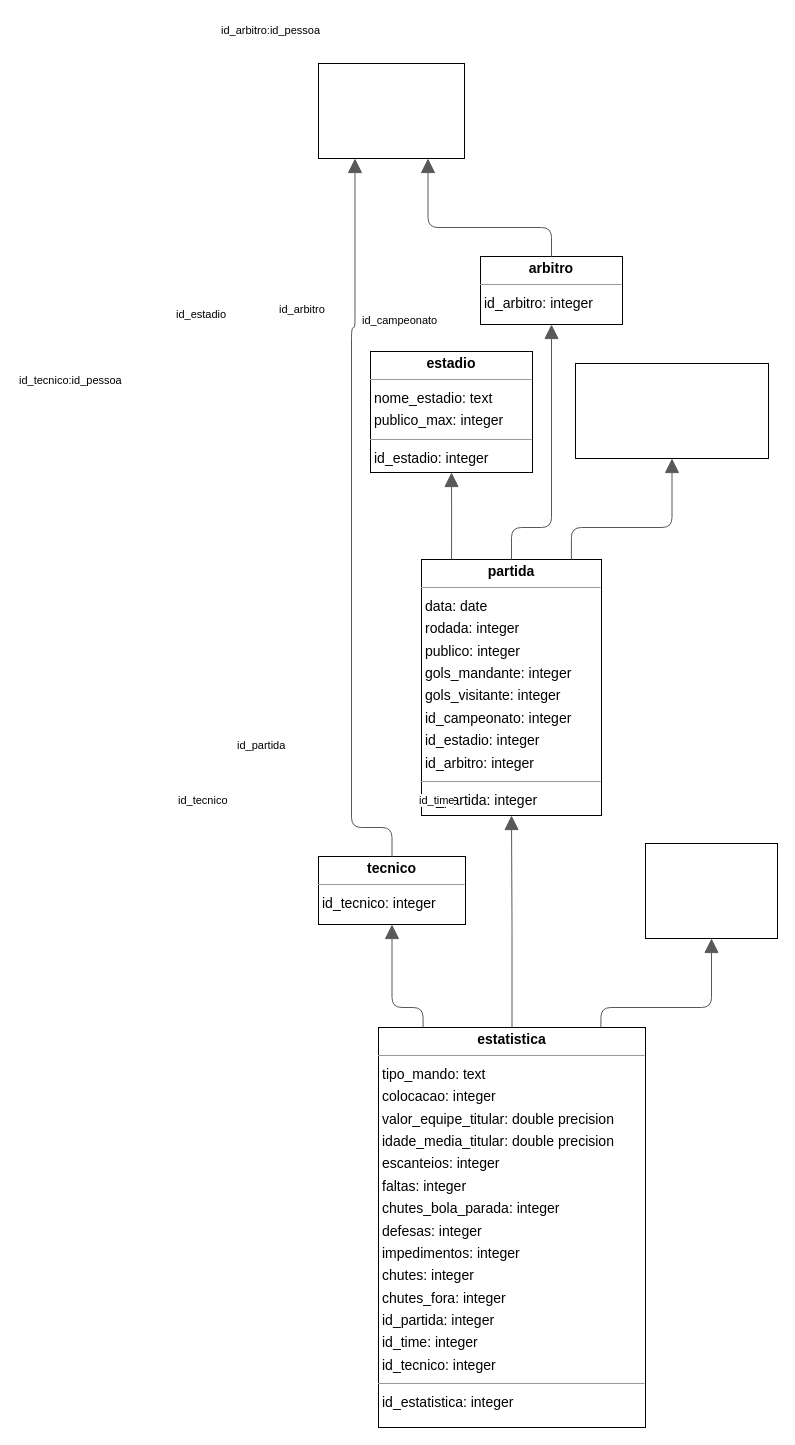
Image size: 795x1445. Some labels were removed from this diagram. The shapes that lost their labels are listed below. From the top down, each one's centre as x and y in pixels, then its label:
At [391,110]: "pessoa nome: text id_pessoa: integer".
At [671,410]: "campeonato ano_campeonato: integer id_campeonato: integer".
At [711,890]: "time nome_time: text id_time: integer".
